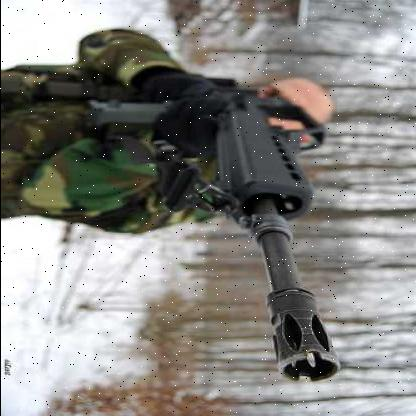rifle: (81, 72, 382, 386)
